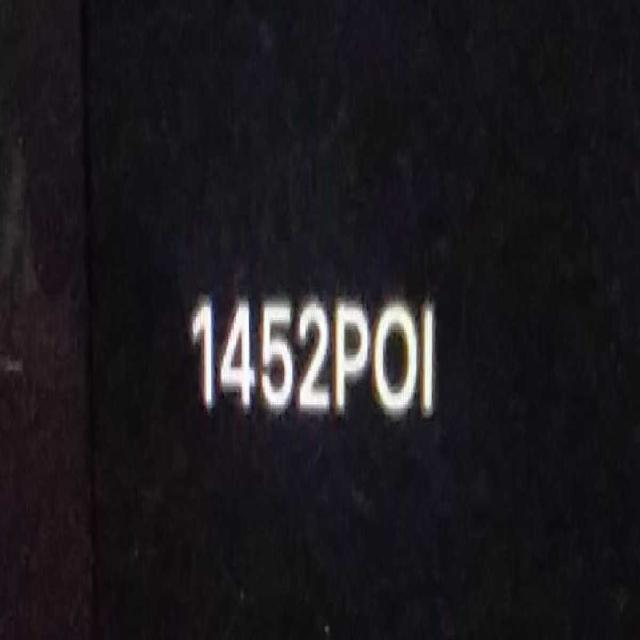license_plate: (180, 248, 440, 471), (333, 300, 371, 418)
